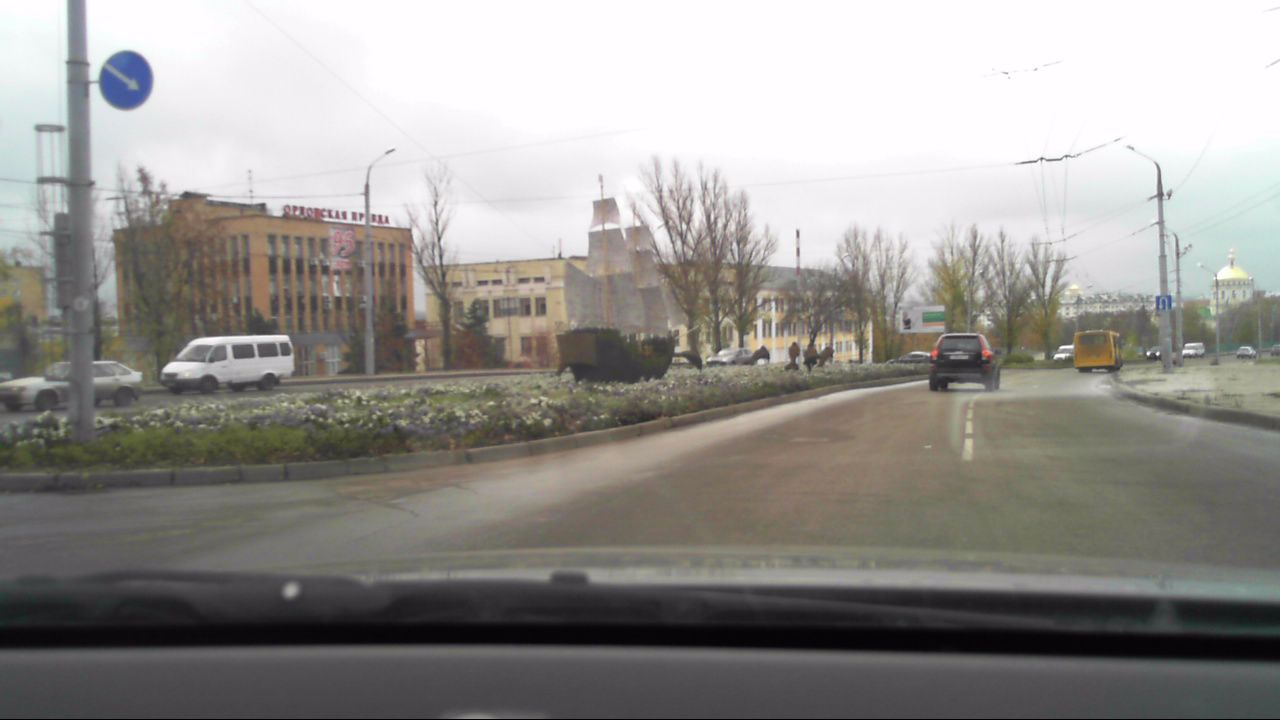U-turn: (1155, 295, 1172, 312)
